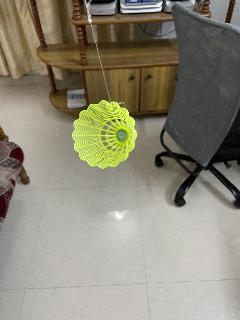shuttlecock: (72, 100, 136, 168)
